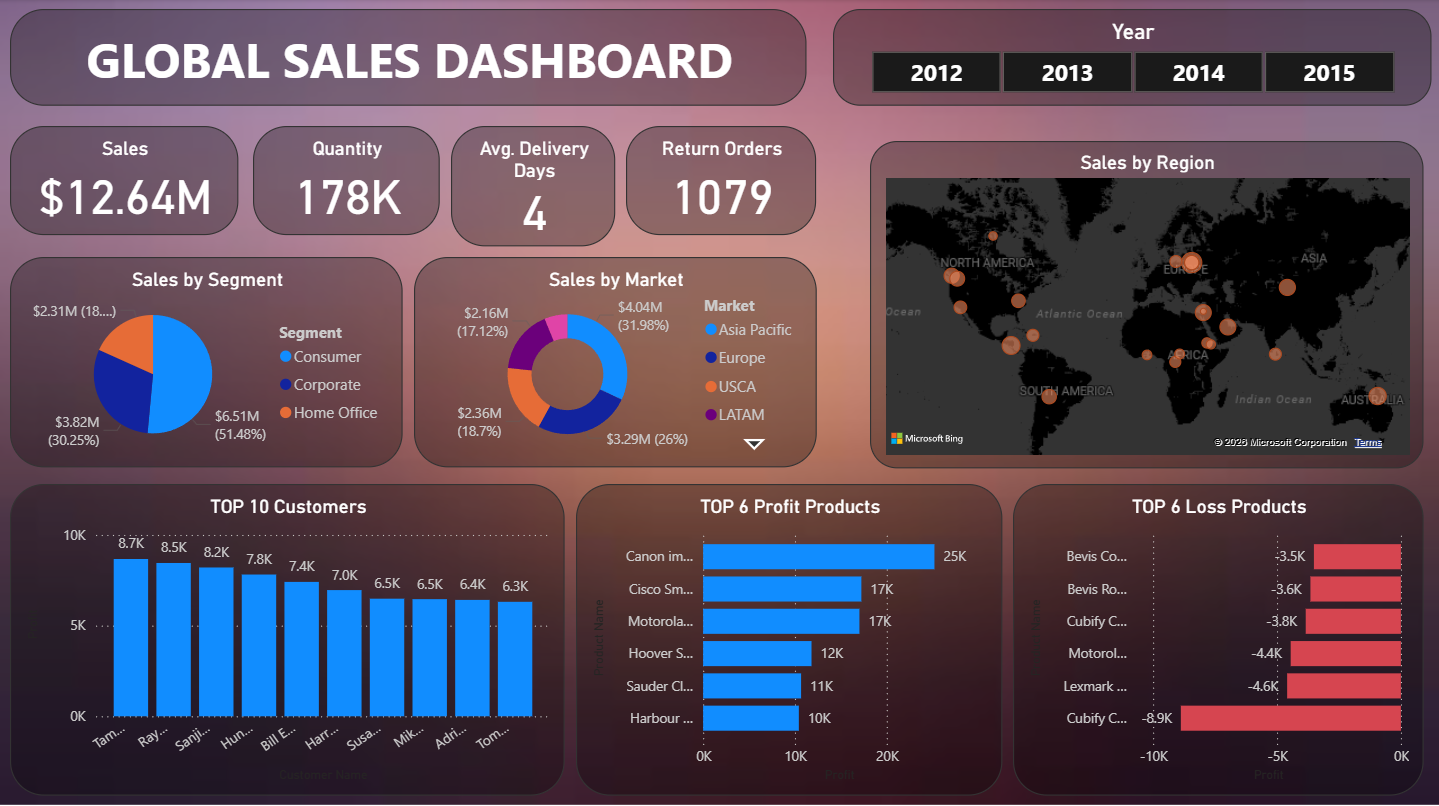

Layout of this report page (visuals, bound fields, positions):
{"tool":"powerbi","page":{"name":"Global Sales","canvas":[1280,720],"ordinal":0},"visuals":[{"type":"card","title":"Sales","fields":{"Values":["Sum(Orders.Sales)"]},"box":[9.9,112.7,202.8,97.2],"z":0},{"type":"card","title":"Quantity","fields":{"Values":["Sum(Orders.Quantity)"]},"box":[225.4,112.7,166.2,97.2],"z":1000},{"type":"card","title":"Avg. Delivery Days","fields":{"Values":["Avg(Orders.Delivery Days)"]},"box":[401.4,112.7,146.5,107],"z":2000},{"type":"slicer","title":"Year","fields":{"Values":["Orders.Year"]},"box":[741.3,8.9,531.6,86.2],"z":3000},{"type":"card","title":"Return Orders","fields":{"Values":["Sum(Returns.Return Orders)"]},"box":[557.7,112.7,169,97.2],"z":4000},{"type":"map","fields":{"Category":["Orders.Region"],"Size":["Sum(Orders.Sales)"]},"box":[774.2,126.2,491.6,290.7],"z":5000},{"type":"barChart","title":"TOP 6 Profit  Products","fields":{"Category":["Orders.Product Name"],"Y":["Sum(Orders.Profit)"]},"box":[512.7,431,378.9,277.5],"z":6000},{"type":"barChart","title":"TOP 6 Loss  Products","fields":{"Category":["Orders.Product Name"],"Y":["Sum(Orders.Profit)"]},"box":[901.4,431,364.8,277.5],"z":7000},{"type":"pieChart","fields":{"Category":["Orders.Segment"],"Y":["Sum(Orders.Sales)"]},"box":[9.9,229.6,349.3,187.3],"z":8000},{"type":"donutChart","fields":{"Y":["Sum(Orders.Sales)"],"Category":["Orders.Market"]},"box":[369,229.6,357.7,187.3],"z":9000},{"type":"columnChart","title":"TOP 10 Customers","fields":{"Y":["Sum(Orders.Profit)"],"Category":["Orders.Customer Name"]},"box":[9.9,431,493,277.5],"z":10000},{"type":"textbox","box":[9.8,8.9,708.4,86.2],"z":11000}]}

Visuals, with their boxes in screenshot pixels (x1, y1, x2, y2), scaled from the page's 1280x720 canvas onto the 1439x806 screenshot:
"Sales" card: Rect(11, 126, 239, 235)
"Quantity" card: Rect(253, 126, 440, 235)
"Avg. Delivery Days" card: Rect(451, 126, 616, 246)
"Year" slicer: Rect(833, 10, 1431, 106)
"Return Orders" card: Rect(627, 126, 817, 235)
map - Orders.Region x Sum(Orders.Sales): Rect(870, 141, 1423, 467)
"TOP 6 Profit  Products" barChart: Rect(576, 482, 1002, 793)
"TOP 6 Loss  Products" barChart: Rect(1013, 482, 1423, 793)
pieChart - Orders.Segment x Sum(Orders.Sales): Rect(11, 257, 404, 467)
donutChart - Sum(Orders.Sales) x Orders.Market: Rect(415, 257, 817, 467)
"TOP 10 Customers" columnChart: Rect(11, 482, 565, 793)
textbox: Rect(11, 10, 807, 106)
